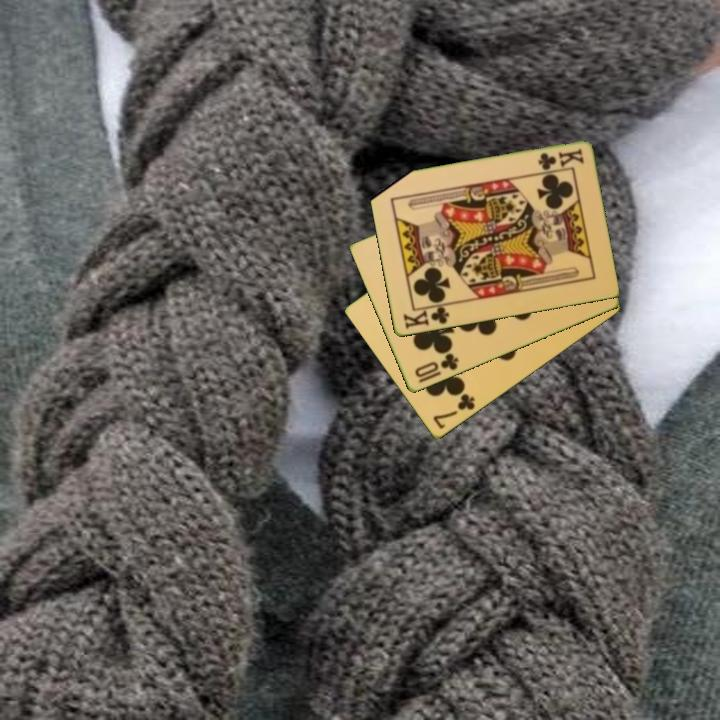10c: (411, 350, 462, 381)
7c: (429, 390, 478, 432)
Kc: (400, 301, 452, 332), (534, 145, 587, 173)
